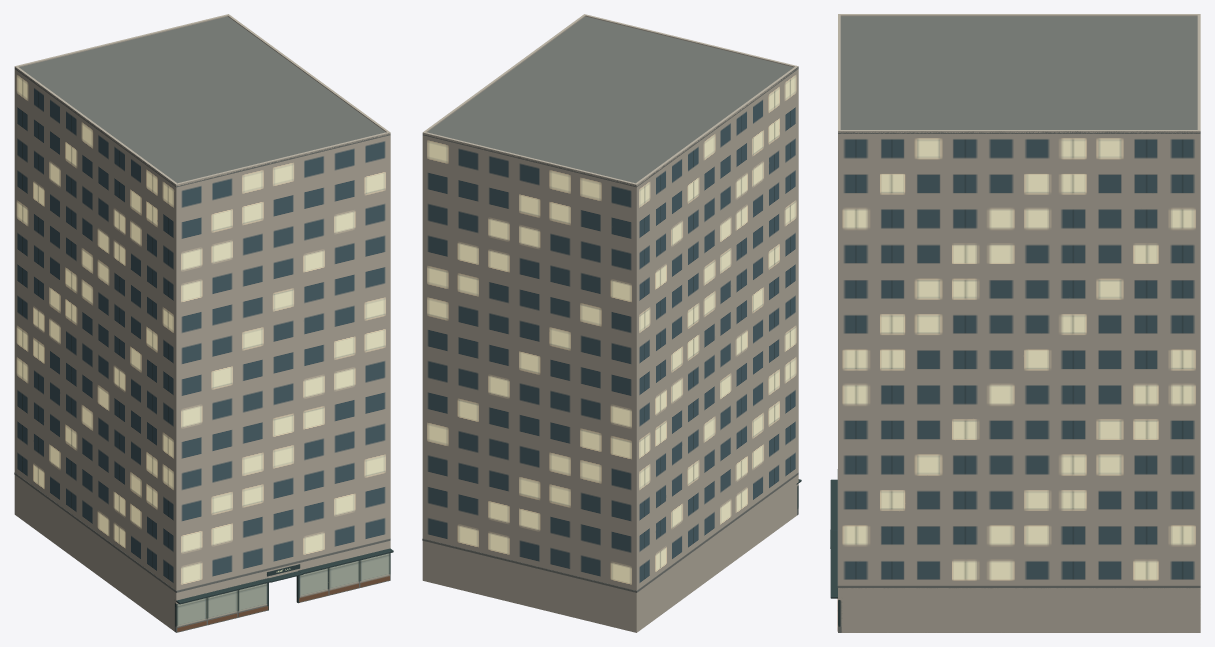
Rendered from cafe-pilot-lods.glb.
3 renders of one model, left to right at view 1: azimuth 30°, elevation 25°; view 2: azimuth 150°, elevation 25°; view 3: azimuth 270°, elevation 25°, orthographic. The views are drawn at different scales.
Visible parts, largest first — view 1: cafe_pilot_lod1, cafe_pilot_lod2; view 2: cafe_pilot_lod1, cafe_pilot_lod2; view 3: cafe_pilot_lod1, cafe_pilot_lod2.
Boxes of the visible parts, left/top/right/bottom form: cafe_pilot_lod1: left=14, top=14, right=393, bottom=632; cafe_pilot_lod2: left=14, top=477, right=390, bottom=632; cafe_pilot_lod1: left=422, top=14, right=801, bottom=632; cafe_pilot_lod2: left=423, top=475, right=798, bottom=632; cafe_pilot_lod1: left=830, top=14, right=1200, bottom=632; cafe_pilot_lod2: left=838, top=588, right=1200, bottom=632.
Bounding box in the file's own units: 23.48 × 46.89 × 31.37.
7 materials, 1 textured.
